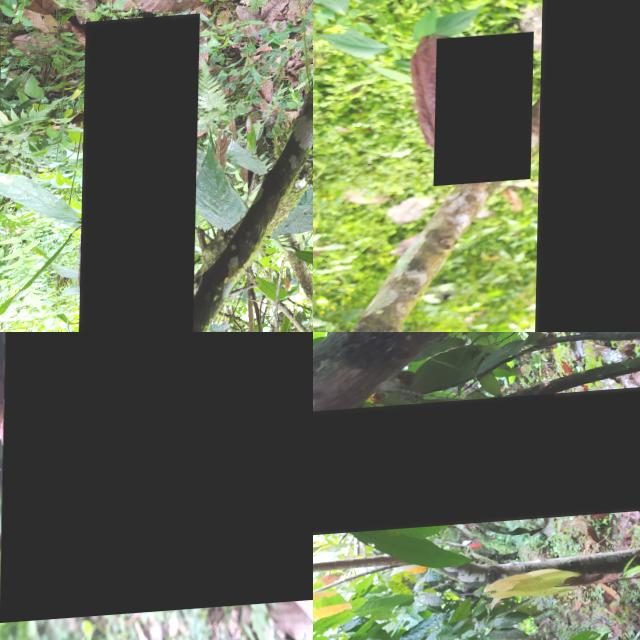Fitoftora: (313, 394, 640, 539), (80, 18, 200, 332)
Monilia: (1, 332, 313, 625)
Sana: (537, 0, 640, 332), (435, 35, 535, 188), (410, 34, 474, 155)
